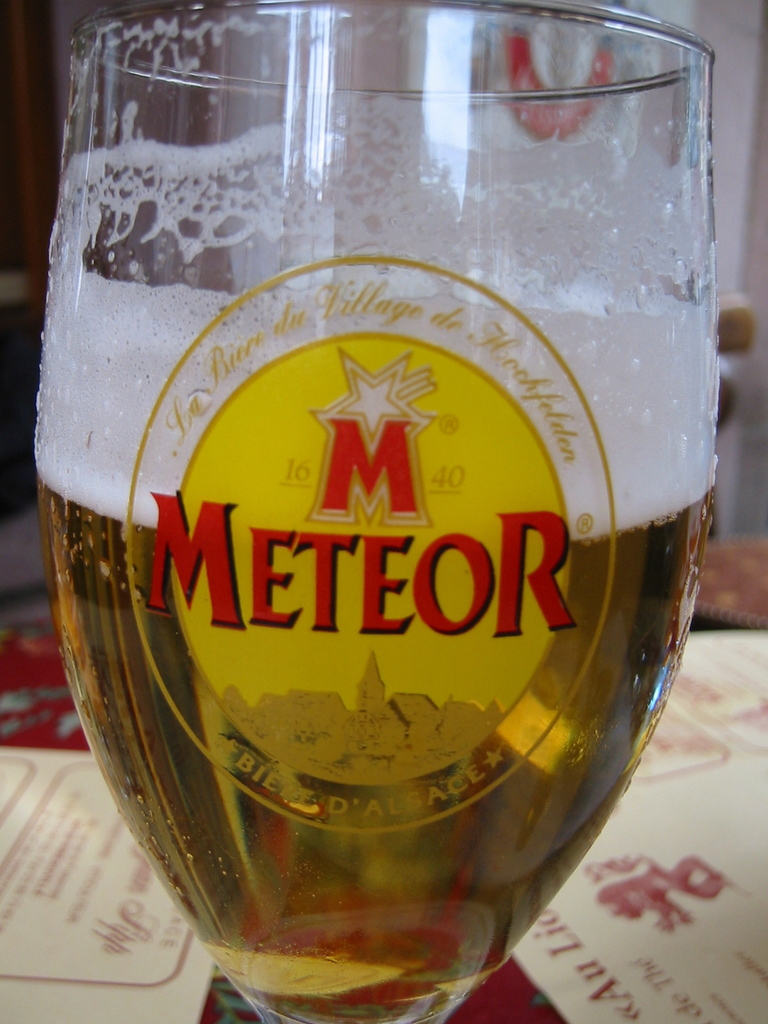Beer: (36, 298, 711, 1023)
